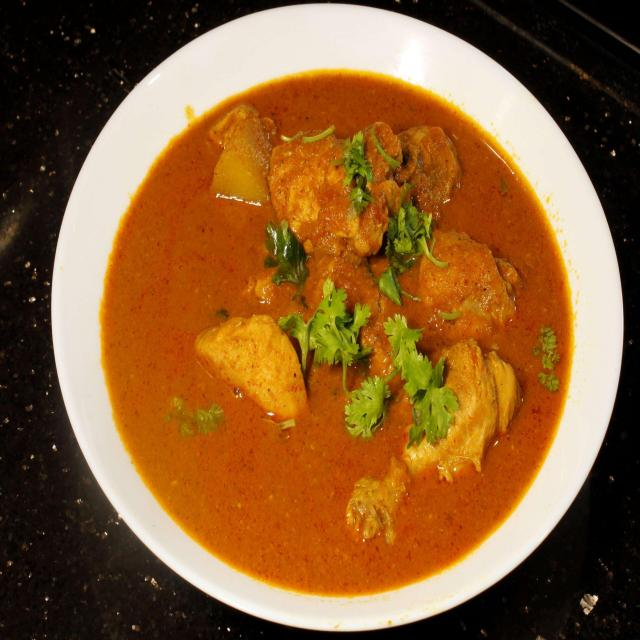chicken: (99, 80, 589, 582)
